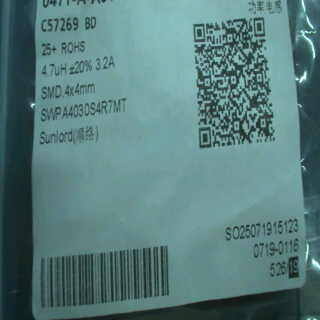4.7uH: (40, 60, 68, 80)
